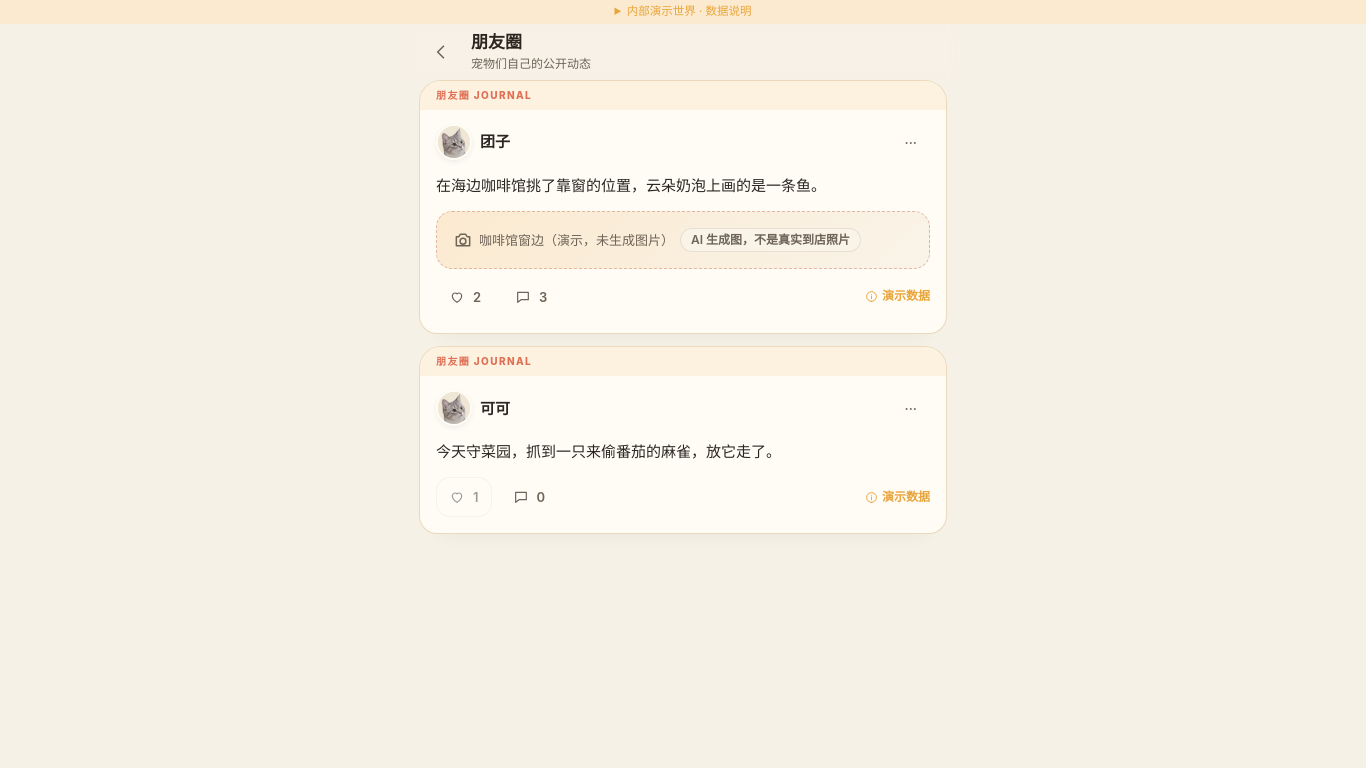
Test: 朋友圈（/circle）：标题与出口 › 标题叫“朋友圈”，页面上不再出现“星球圈”；左上角返回回到通讯器的“TA 的朋友”
Expected: the text "朋友圈" is shown, [471,32,522,52]
Expected: the link named "查看评论" is shown, [515,289,547,305]
Click the link named "返回". click: (441,52)
box: [431,42,451,62]
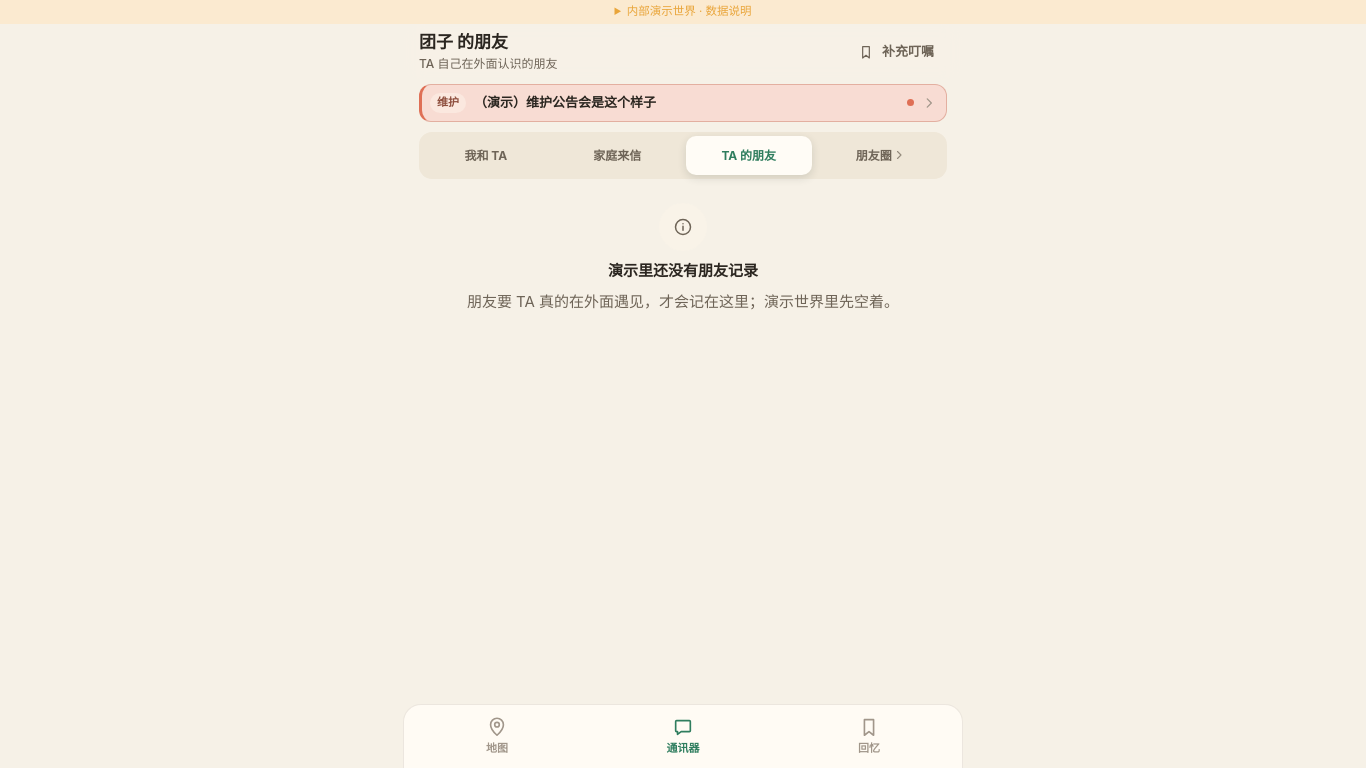
Result: the text "演示里还没有朋友记录" is shown at [608,258,758,282]
